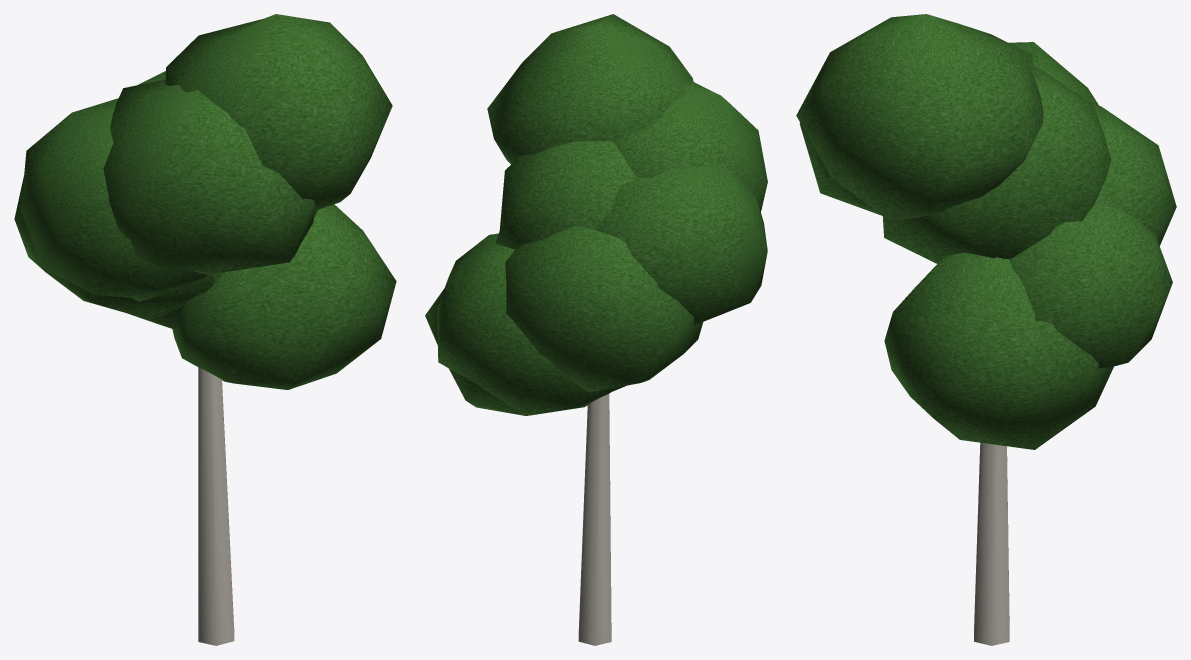
Rendered from ambient_tree_14.glb.
3 renders of one model, left to right at view 1: azimuth 30°, elevation 25°; view 2: azimuth 150°, elevation 25°; view 3: azimuth 270°, elevation 25°, orthographic. The views are drawn at different scales.
Parts seen in each view (by area): view 1: ambient_tree_14; view 2: ambient_tree_14; view 3: ambient_tree_14.
Boxes of the visible parts, x1=… form: ambient_tree_14: x1=14, y1=14, x2=396, y2=645; ambient_tree_14: x1=425, y1=14, x2=767, y2=645; ambient_tree_14: x1=796, y1=14, x2=1176, y2=645.
Bounding box in the file's own units: 6.37 × 11.46 × 6.2.
2 materials, 2 textured.
